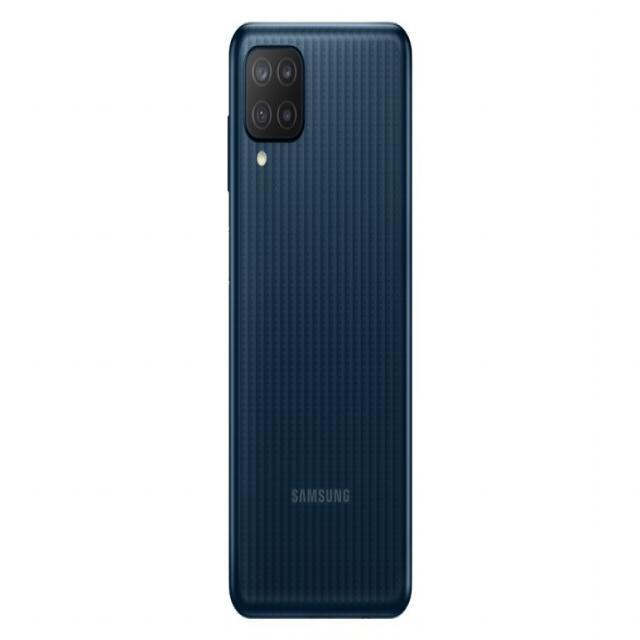phone: (226, 21, 414, 617)
